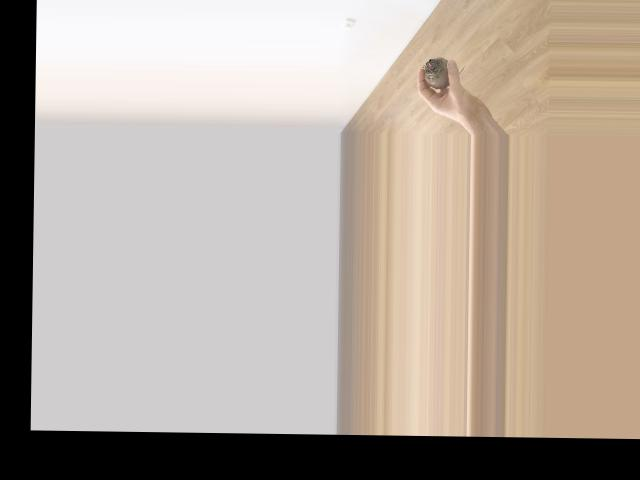beet: (422, 56, 464, 89)
